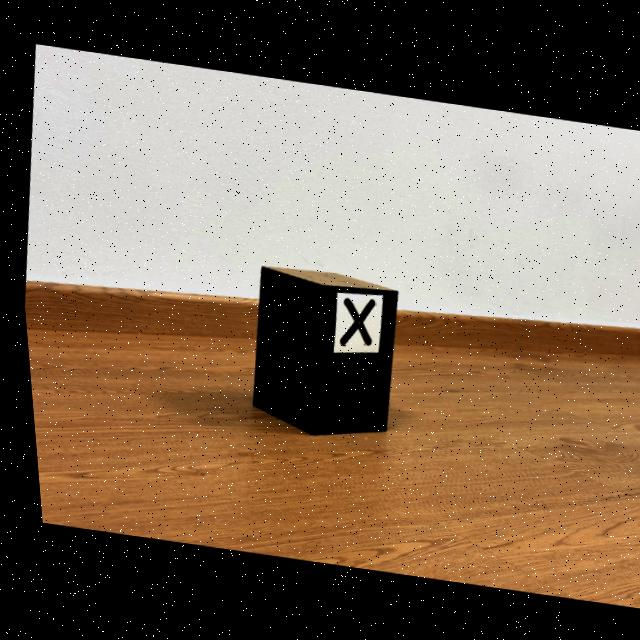X: (334, 297, 370, 345)
